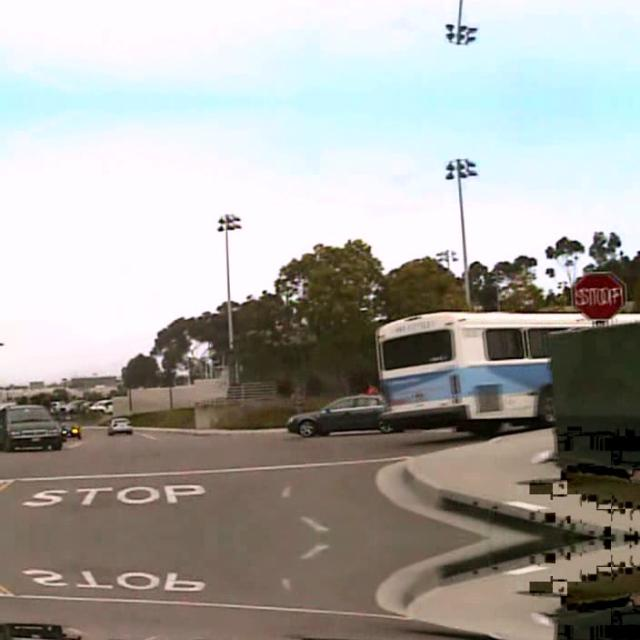stop: (574, 270, 626, 318)
